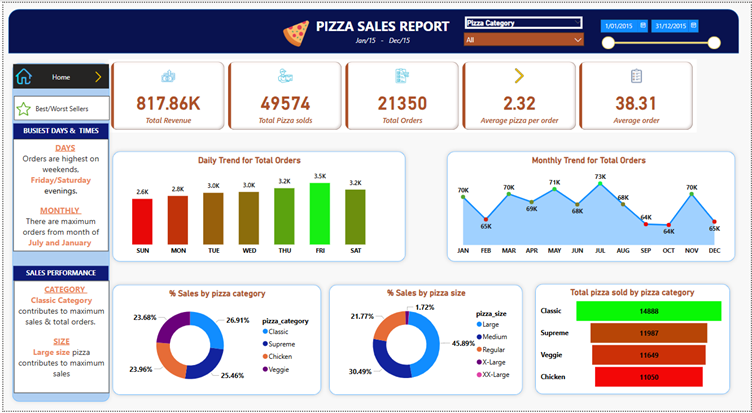

The dashboard page shown, as its layout file describes it:
{"tool":"powerbi","page":{"name":"Home","canvas":[1500,820],"ordinal":0},"visuals":[{"type":"cardVisual","fields":{"Data":["pizza_sales.Total Revenue","pizza_sales.Total Pizza solds","pizza_sales.Total Orders","pizza_sales.Average pizza per order","pizza_sales.Average order"]},"box":[211.1,113.9,1180.6,147.2],"z":0},{"type":"shape","box":[9.7,12.5,1466.7,88.9],"z":1000},{"type":"textbox","box":[609.7,22.2,304.2,52.8],"z":2000},{"type":"textbox","box":[697.2,61.1,129.2,40.3],"z":3000},{"type":"image","box":[527.8,29.2,118.1,63.9],"z":4000},{"type":"shape","box":[211.1,290.3,604.2,237.5],"z":5000},{"type":"columnChart","title":"Daily Trend for Total Orders","fields":{"Category":["pizza_sales.OrderDay"],"Y":["pizza_sales.Total Orders"]},"box":[225,305.6,537.5,209.7],"z":6000},{"type":"shape","box":[881.9,290.3,594.4,237.5],"z":7000},{"type":"areaChart","title":"Monthly Trend for Total Orders","fields":{"Category":["pizza_sales.OrderMonth"],"Y":["pizza_sales.Total Revenue"]},"box":[900,305.6,551.4,209.7],"z":8000},{"type":"shape","box":[211.1,558.3,434.7,237.5],"z":9000},{"type":"shape","box":[645.8,558.3,404.2,237.5],"z":10000},{"type":"shape","box":[1059.7,556.9,406.9,237.5],"z":11000},{"type":"donutChart","title":"% Sales by pizza category","fields":{"Category":["pizza_sales.pizza_category"],"Y":["pizza_sales.Total Revenue"]},"box":[225,573.6,408.3,209.7],"z":12000},{"type":"donutChart","title":"% Sales by pizza size","fields":{"Y":["pizza_sales.Total Revenue"],"Category":["pizza_sales.pizza_size"]},"box":[663.9,572.2,369.4,209.7],"z":13000},{"type":"funnel","title":"Total pizza sold by pizza category","fields":{"Category":["pizza_sales.pizza_category"],"Y":["pizza_sales.Total Pizza solds"]},"box":[1073.6,570.8,377.8,209.7],"z":14000},{"type":"shape","box":[9.9,113.3,211.1,695.6],"z":15000},{"type":"textbox","box":[19.8,242.3,191.3,31.2],"z":16000},{"type":"textbox","box":[19.8,273.4,191.3,225.3],"z":17000},{"type":"textbox","box":[19.8,528.4,191.3,29.8],"z":18000},{"type":"textbox","box":[21.3,558.2,191.3,225.3],"z":19000},{"type":"slicer","fields":{"Values":["pizza_sales.pizza_category"]},"box":[913.8,22.7,262.1,87.8],"z":20000},{"type":"slicer","fields":{"Values":["pizza_sales.order_date"]},"box":[1185.8,22.7,262.1,87.8],"z":21000},{"type":"pageNavigator","box":[19.8,123.3,192.7,49.6],"z":22000},{"type":"pageNavigator","box":[21.3,187,192.7,49.6],"z":23000},{"type":"image","box":[155.8,133.2,69.4,31.2],"z":24000},{"type":"image","box":[19.8,123.3,42.5,48.2],"z":25000},{"type":"image","box":[21.3,191.3,38.3,43.9],"z":26000}]}

Visuals, with their boxes in screenshot pixels (x1, y1, x2, y2), scaled from the page's 1500x820 canvas onto the 752x413 screenshot:
cardVisual - pizza_sales.Total Revenue x pizza_sales.Total Pizza solds: <bbox>106, 57, 698, 132</bbox>
shape: <bbox>5, 6, 740, 51</bbox>
textbox: <bbox>306, 11, 458, 38</bbox>
textbox: <bbox>350, 31, 414, 51</bbox>
image: <bbox>265, 15, 324, 47</bbox>
shape: <bbox>106, 146, 409, 266</bbox>
"Daily Trend for Total Orders" columnChart: <bbox>113, 154, 382, 260</bbox>
shape: <bbox>442, 146, 740, 266</bbox>
"Monthly Trend for Total Orders" areaChart: <bbox>451, 154, 728, 260</bbox>
shape: <bbox>106, 281, 324, 401</bbox>
shape: <bbox>324, 281, 526, 401</bbox>
shape: <bbox>531, 280, 735, 400</bbox>
"% Sales by pizza category" donutChart: <bbox>113, 289, 317, 395</bbox>
"% Sales by pizza size" donutChart: <bbox>333, 288, 518, 394</bbox>
"Total pizza sold by pizza category" funnel: <bbox>538, 287, 728, 393</bbox>
shape: <bbox>5, 57, 111, 407</bbox>
textbox: <bbox>10, 122, 106, 138</bbox>
textbox: <bbox>10, 138, 106, 251</bbox>
textbox: <bbox>10, 266, 106, 281</bbox>
textbox: <bbox>11, 281, 107, 395</bbox>
slicer - pizza_sales.pizza_category: <bbox>458, 11, 590, 56</bbox>
slicer - pizza_sales.order_date: <bbox>594, 11, 726, 56</bbox>
pageNavigator: <bbox>10, 62, 107, 87</bbox>
pageNavigator: <bbox>11, 94, 107, 119</bbox>
image: <bbox>78, 67, 113, 83</bbox>
image: <bbox>10, 62, 31, 86</bbox>
image: <bbox>11, 96, 30, 118</bbox>
